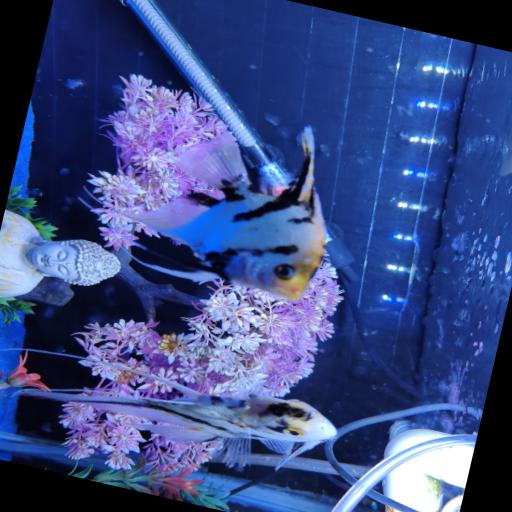Fish: (130, 126, 324, 300), (19, 364, 335, 468)
